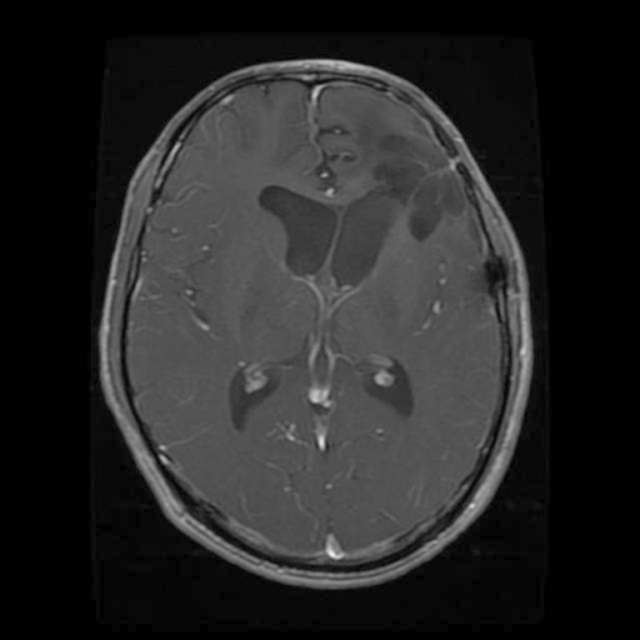pituitary tumor: (378, 138, 462, 234)
